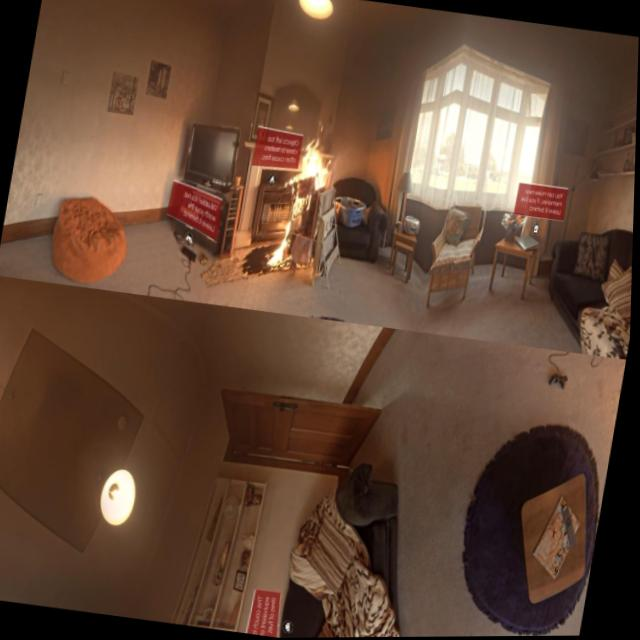fire: (261, 119, 338, 285)
